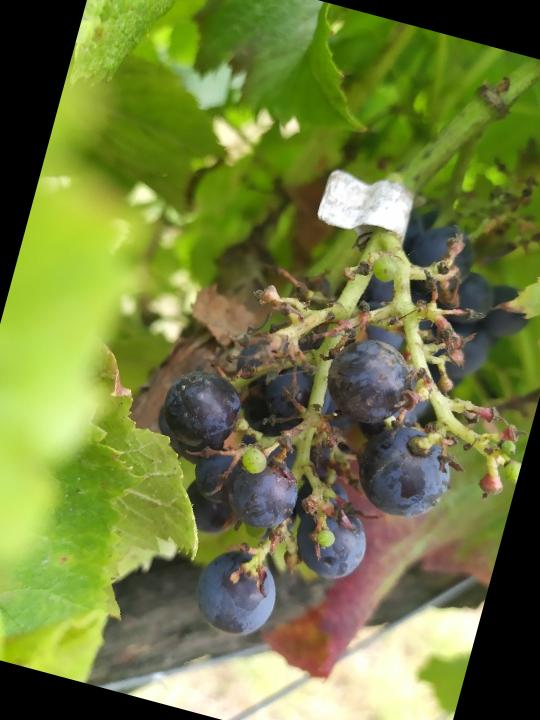grape: (104, 169, 540, 701)
